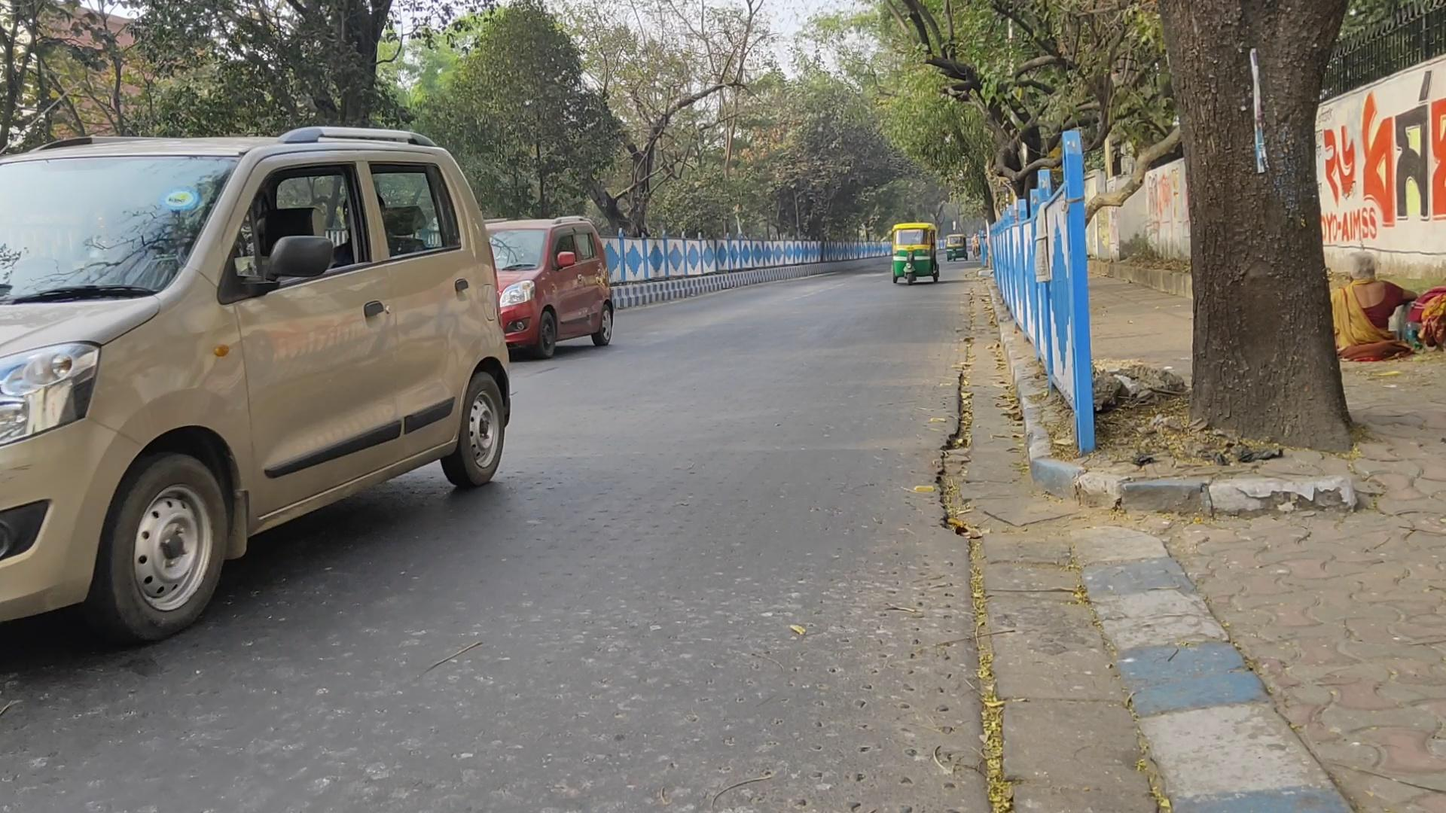Auto: (889, 223, 941, 286), (946, 233, 969, 263)
car: (2, 123, 513, 648), (484, 213, 615, 361)
